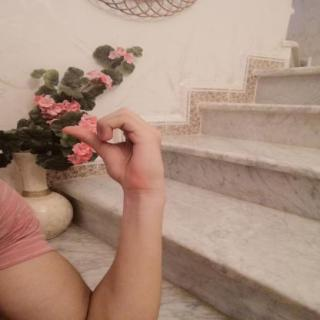WAW: (51, 102, 172, 194)
